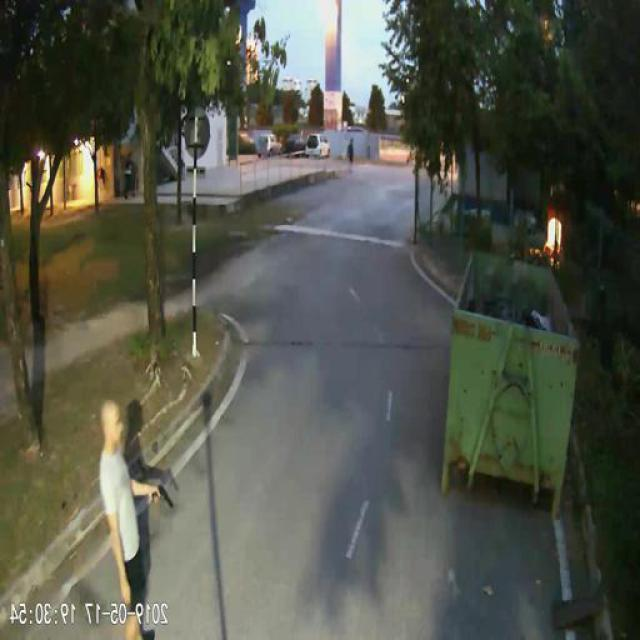Gun: (151, 481, 175, 505)
